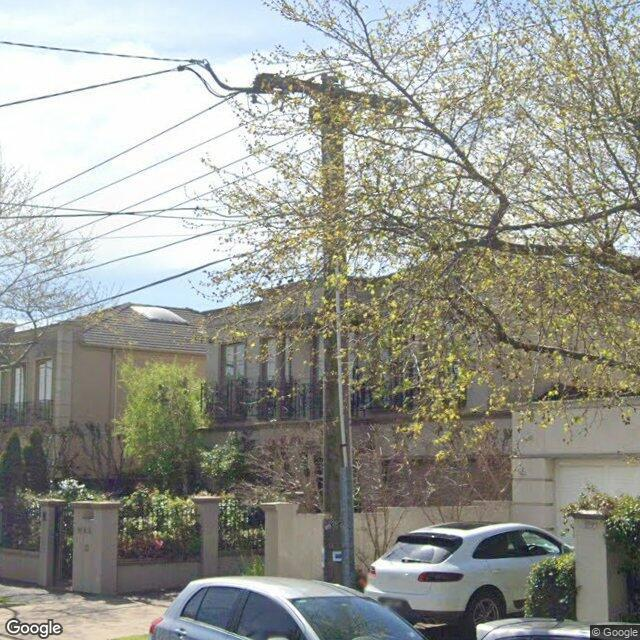crossarm: (253, 73, 408, 112)
timber-pole: (322, 74, 356, 588)
